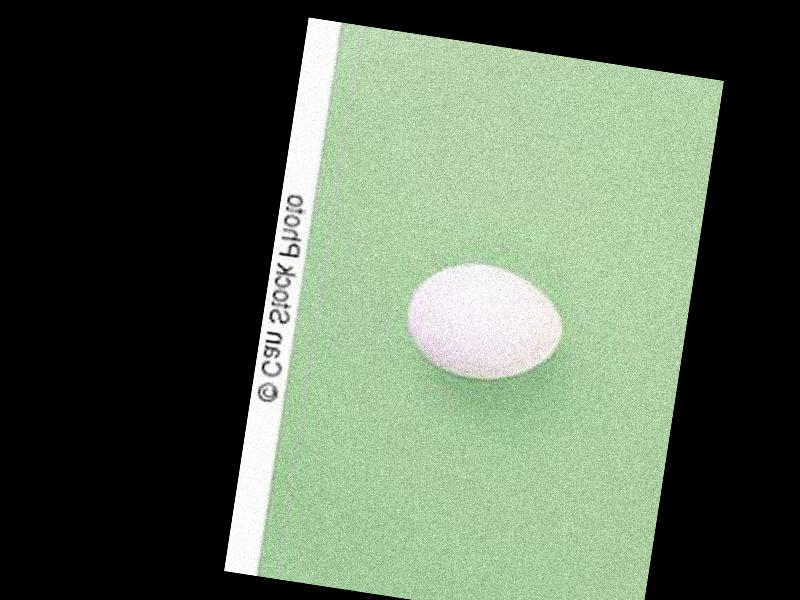Eggs: (401, 256, 569, 389)
